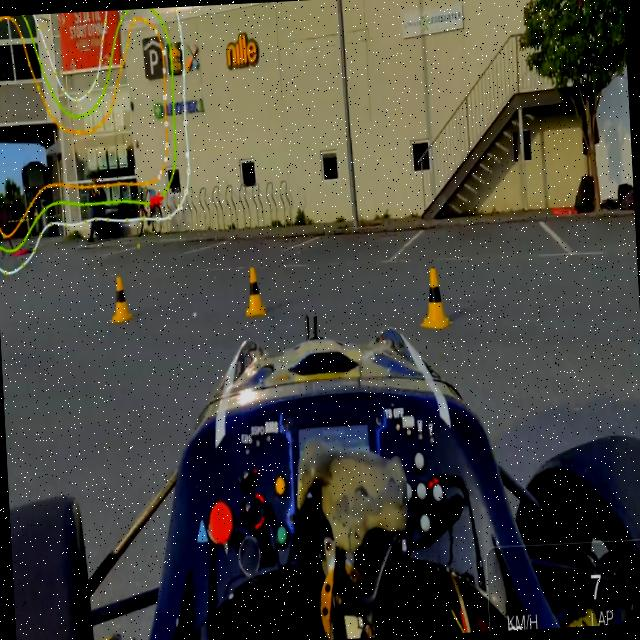yellow_cone: (414, 260, 456, 336), (106, 269, 134, 333), (241, 264, 270, 322)
